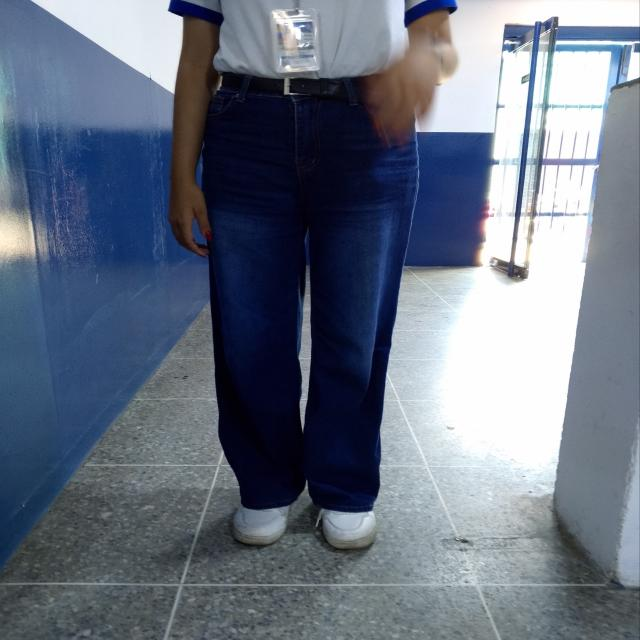carnet: (275, 16, 319, 74)
pantalon_oscuro: (198, 90, 422, 512)
